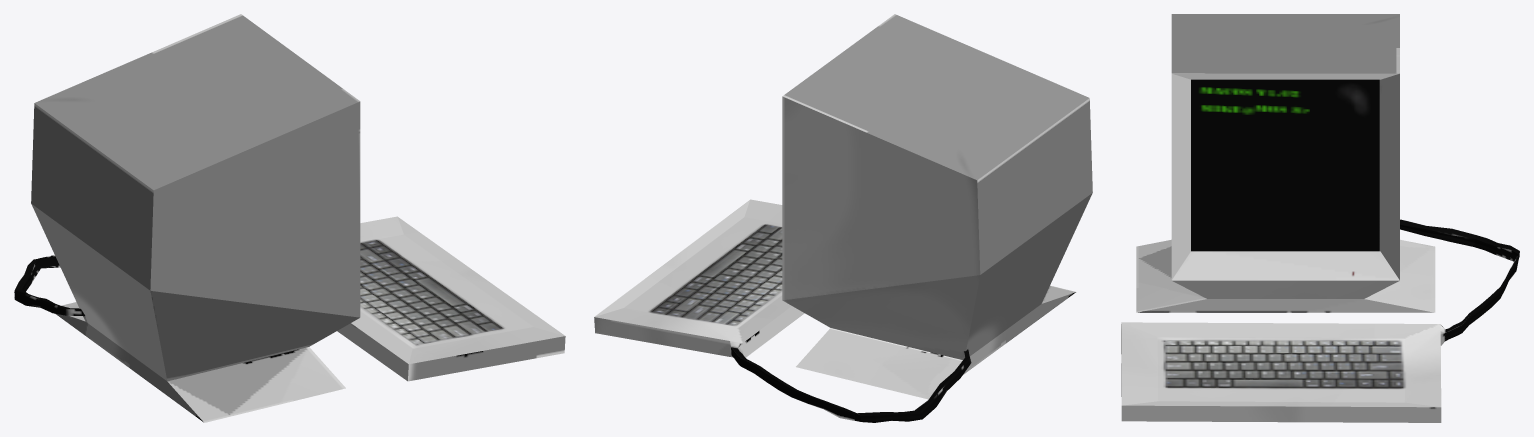
Rendered from Terminal.glb.
3 renders of one model, left to right at view 1: azimuth 30°, elevation 25°; view 2: azimuth 150°, elevation 25°; view 3: azimuth 270°, elevation 25°, orthographic. The views are drawn at different scales.
Parts seen in each view (by area): view 1: Cube; view 2: Cube; view 3: Cube.
Part boxes in pixels (x1=…): Cube: x1=14, y1=14, x2=565, y2=422; Cube: x1=594, y1=14, x2=1092, y2=422; Cube: x1=1121, y1=14, x2=1519, y2=422.
Size of the model in its own units: 3.77 by 2.58 by 3.49.
Materials: 1 (1 with a texture image).
